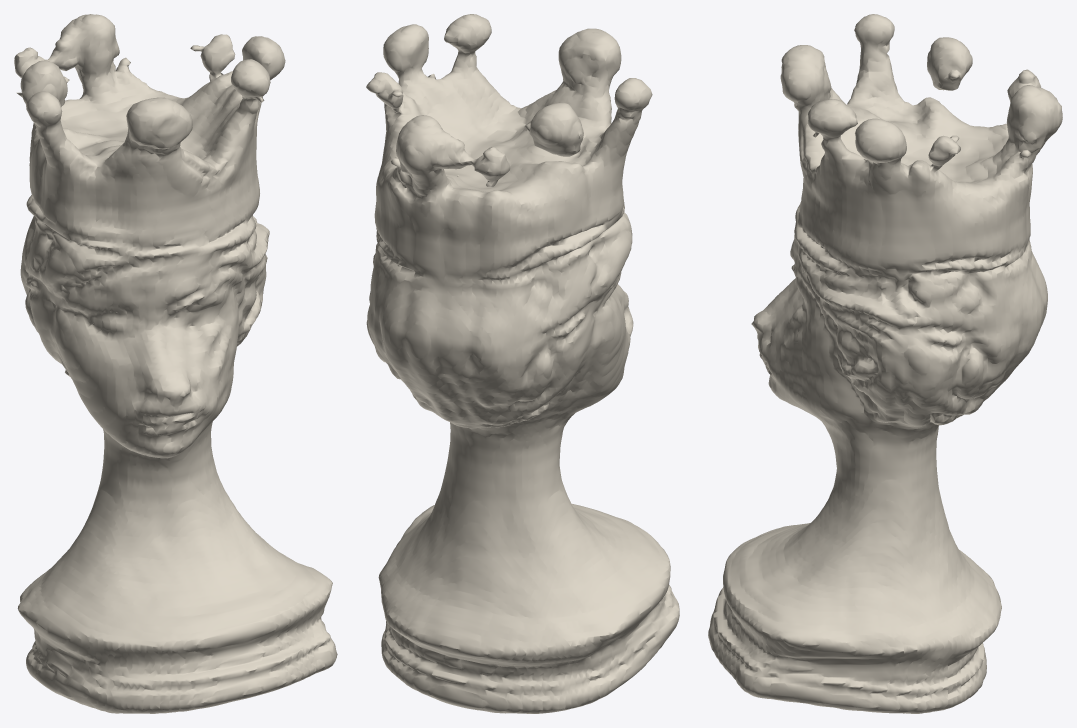
File: queen.glb
3 renders of one model, left to right at view 1: azimuth 30°, elevation 25°; view 2: azimuth 150°, elevation 25°; view 3: azimuth 270°, elevation 25°, orthographic. The views are drawn at different scales.
Parts seen in each view (by area): view 1: queen; view 2: queen; view 3: queen.
Boxes of the visible parts, x1,y1,x2,y2 form: queen: [14, 14, 337, 713]; queen: [366, 14, 679, 713]; queen: [708, 14, 1062, 713].
Size of the model in its own units: 0.458 by 1.03 by 0.5475.
